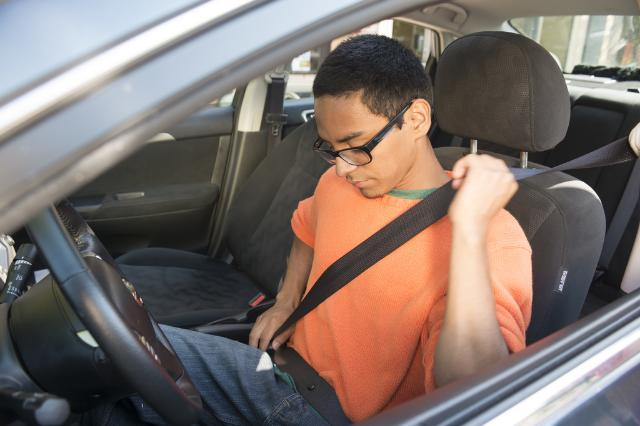Seatbelt: (269, 134, 639, 350), (266, 78, 282, 154)
